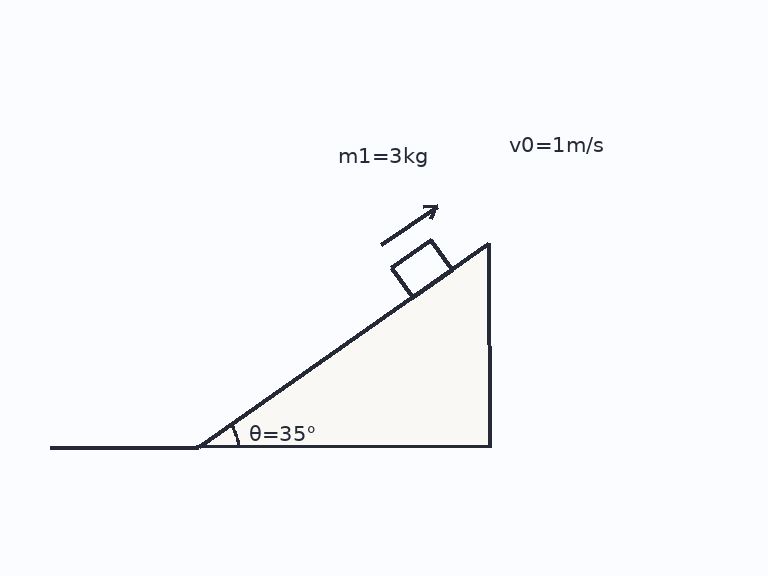block: (390, 238, 454, 299)
ramp: (196, 242, 490, 449)
